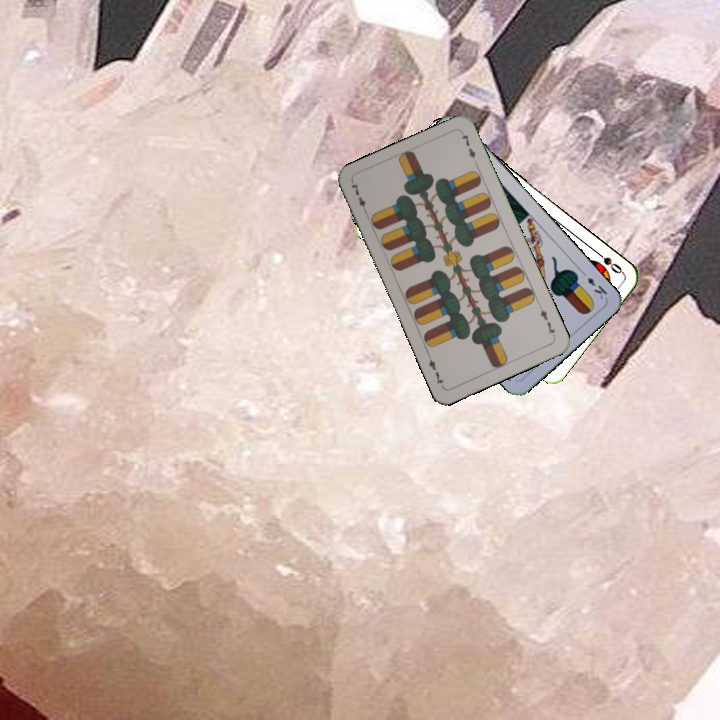E7: (535, 301, 558, 340), (347, 179, 370, 217)
EK: (577, 266, 610, 302)
SO: (591, 246, 625, 276)
